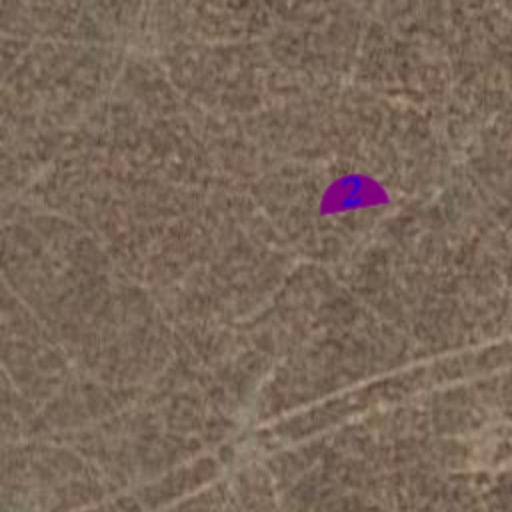semicircle: (310, 150, 394, 234)
